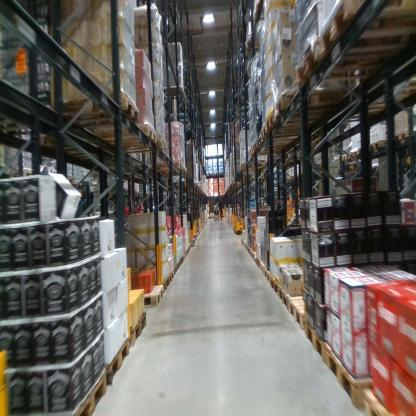pallets: (243, 242, 371, 410), (273, 0, 411, 122), (69, 312, 148, 415), (135, 241, 193, 313), (108, 94, 166, 155)
